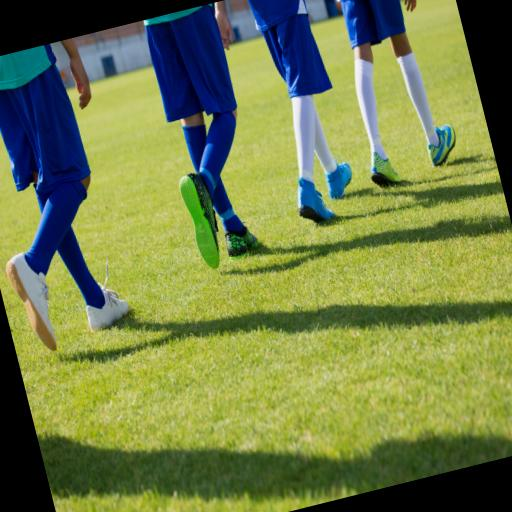shoe: (6, 253, 56, 350), (180, 173, 219, 268), (86, 262, 130, 331), (298, 178, 334, 222), (428, 125, 455, 167), (371, 152, 402, 187), (225, 227, 258, 259), (325, 162, 352, 199)
